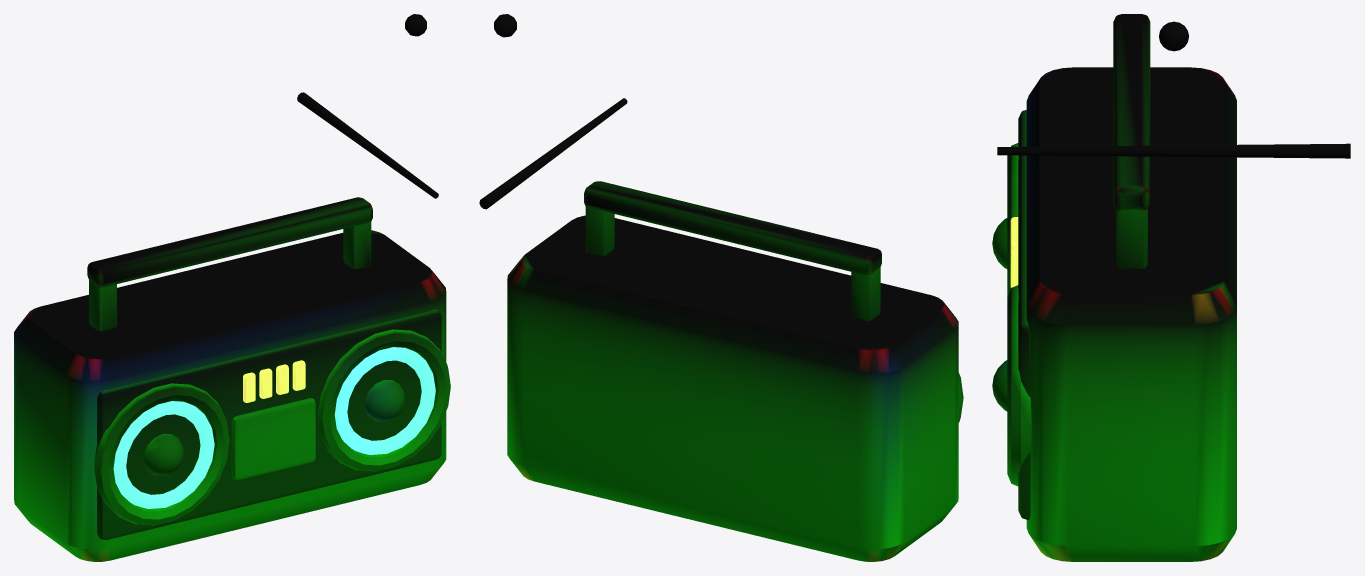
The model's file is hero_boombox.glb.
3 views of the same model, side by side, from view 1: azimuth 30°, elevation 25°; view 2: azimuth 150°, elevation 25°; view 3: azimuth 270°, elevation 25° (orthographic). The views are drawn at different scales.
Parts seen in each view (by area): view 1: HeroBoombox; view 2: HeroBoombox; view 3: HeroBoombox.
Part boxes in pixels (x1,y1,x2,y2): HeroBoombox: (14,14,450,561); HeroBoombox: (479,14,963,561); HeroBoombox: (992,14,1350,561).
Bounding box in the file's own units: 0.7221 × 0.728 × 0.426.
